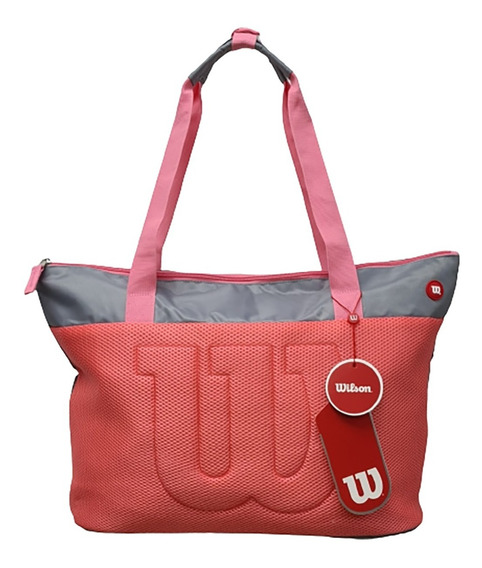cartera: (26, 26, 461, 541)
